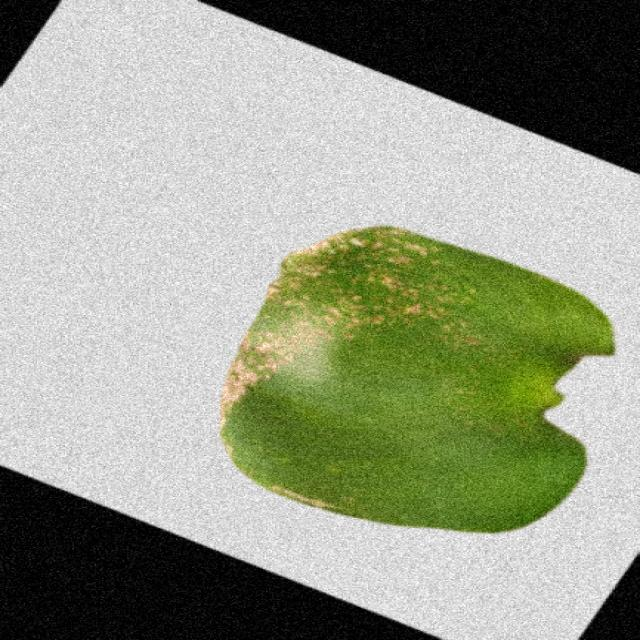daun berpenyakit bercak: (220, 226, 613, 532)
